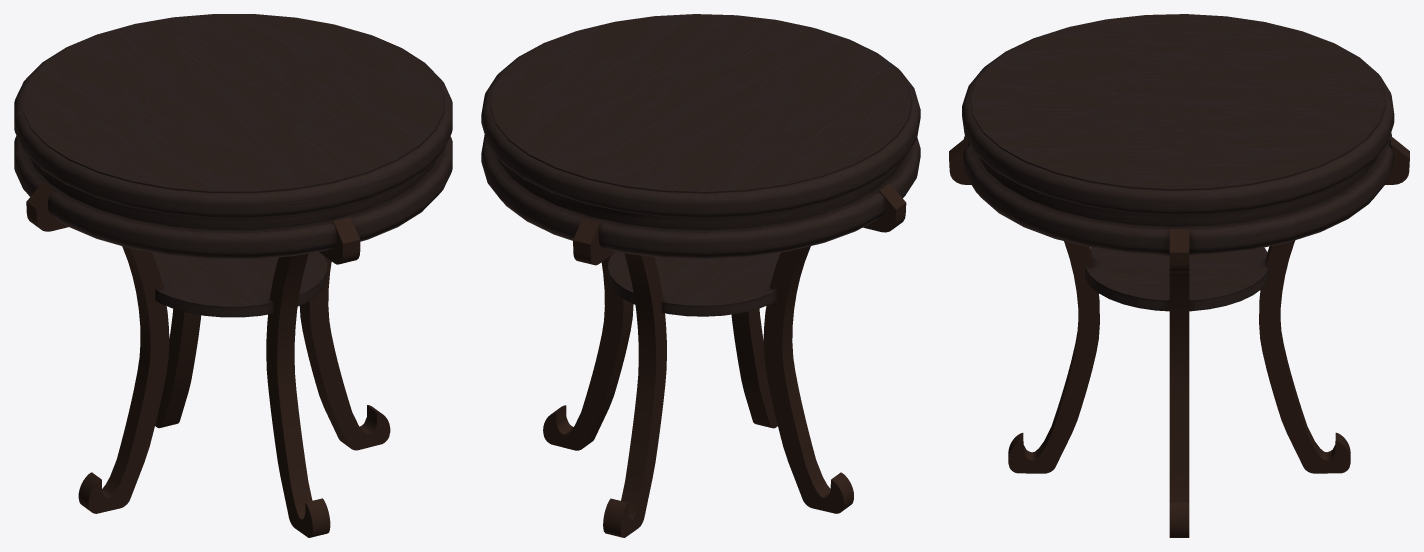
Rendered from tavolino_lampada.fbx.
The picture shows the model from 3 angles, left to right: view 1: azimuth 30°, elevation 25°; view 2: azimuth 150°, elevation 25°; view 3: azimuth 270°, elevation 25°; orthographic projection.
Parts seen in each view (by area): view 1: Wooden table; view 2: Wooden table; view 3: Wooden table.
Part boxes in pixels (bbox=[...]): Wooden table: bbox=[14, 14, 452, 537]; Wooden table: bbox=[481, 14, 920, 537]; Wooden table: bbox=[949, 14, 1409, 537].
Size of the model in its own units: 110 by 96.94 by 110.
